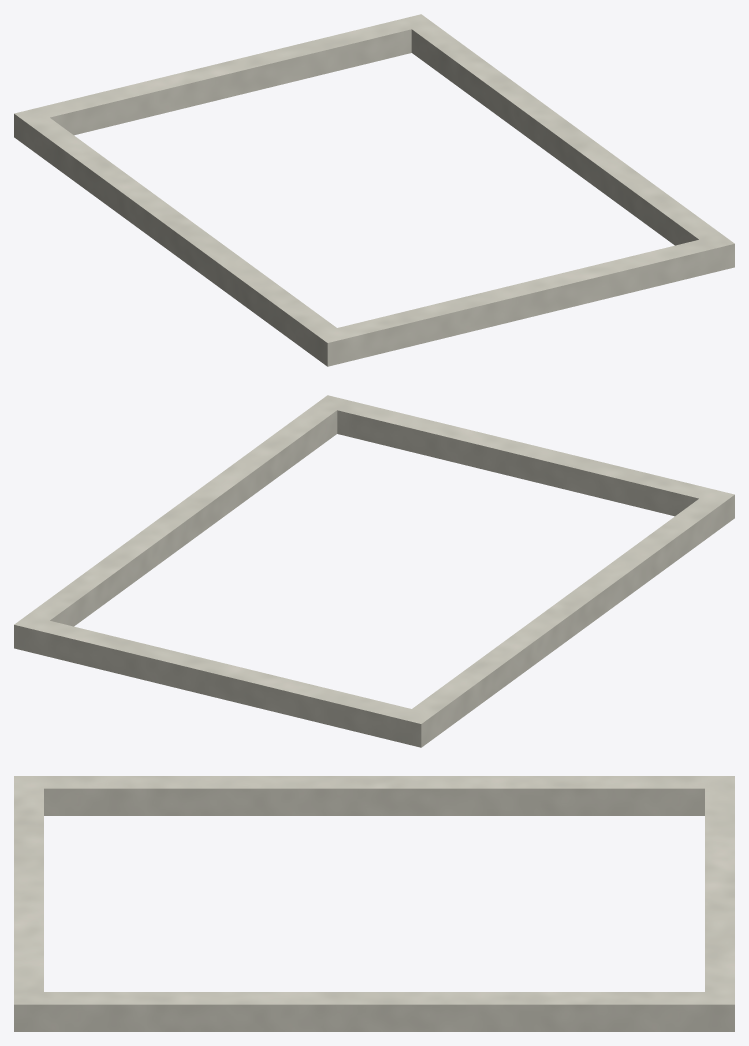
Rendered from SM_L0_Archive_HatchFrame.fbx.
The picture shows the model from 3 angles, top to bottom: view 1: azimuth 30°, elevation 25°; view 2: azimuth 150°, elevation 25°; view 3: azimuth 270°, elevation 25°; orthographic projection. The views are drawn at different scales.
Parts seen in each view (by area): view 1: SM_L0_Archive_HatchFrame; view 2: SM_L0_Archive_HatchFrame; view 3: SM_L0_Archive_HatchFrame.
Part boxes in pixels (bbox=[...]): SM_L0_Archive_HatchFrame: bbox=[14, 14, 734, 366]; SM_L0_Archive_HatchFrame: bbox=[14, 395, 734, 747]; SM_L0_Archive_HatchFrame: bbox=[14, 776, 734, 1031].
Bounding box in the file's own units: 0.9 × 0.05 × 1.2.
